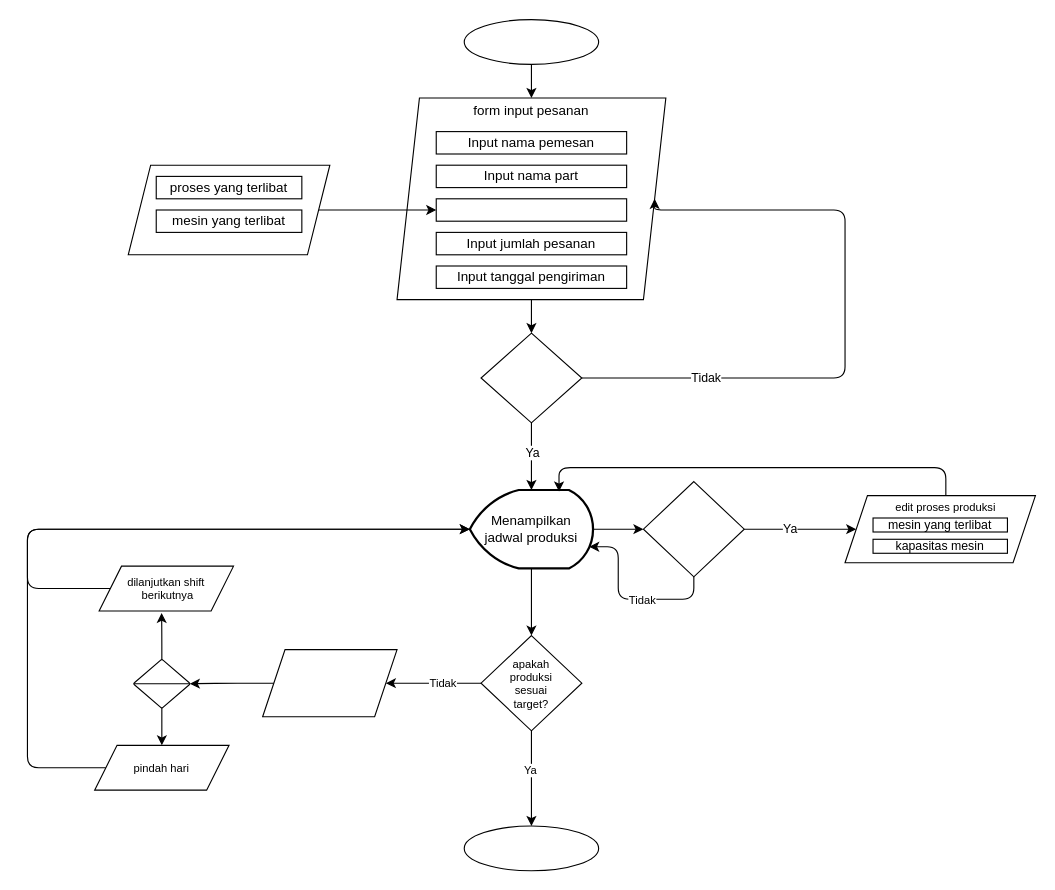
This 1055x890 diagram has some shape labels left out. The centre of each missing label's shape, as x and y in pixels:
"ada perubahan jadwal?" goes at (x=693, y=528).
"apakah data pesanan lengkap?" goes at (x=531, y=377).
"Input kategori part" goes at (x=531, y=209).
"Mulai" goes at (x=531, y=41).
"Selesai" goes at (x=531, y=848).
"ubah jadwal produksi" goes at (x=329, y=682).
